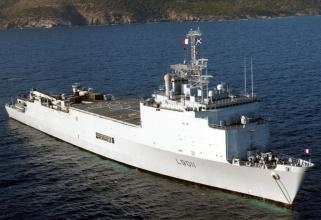warship: (3, 20, 303, 204)
